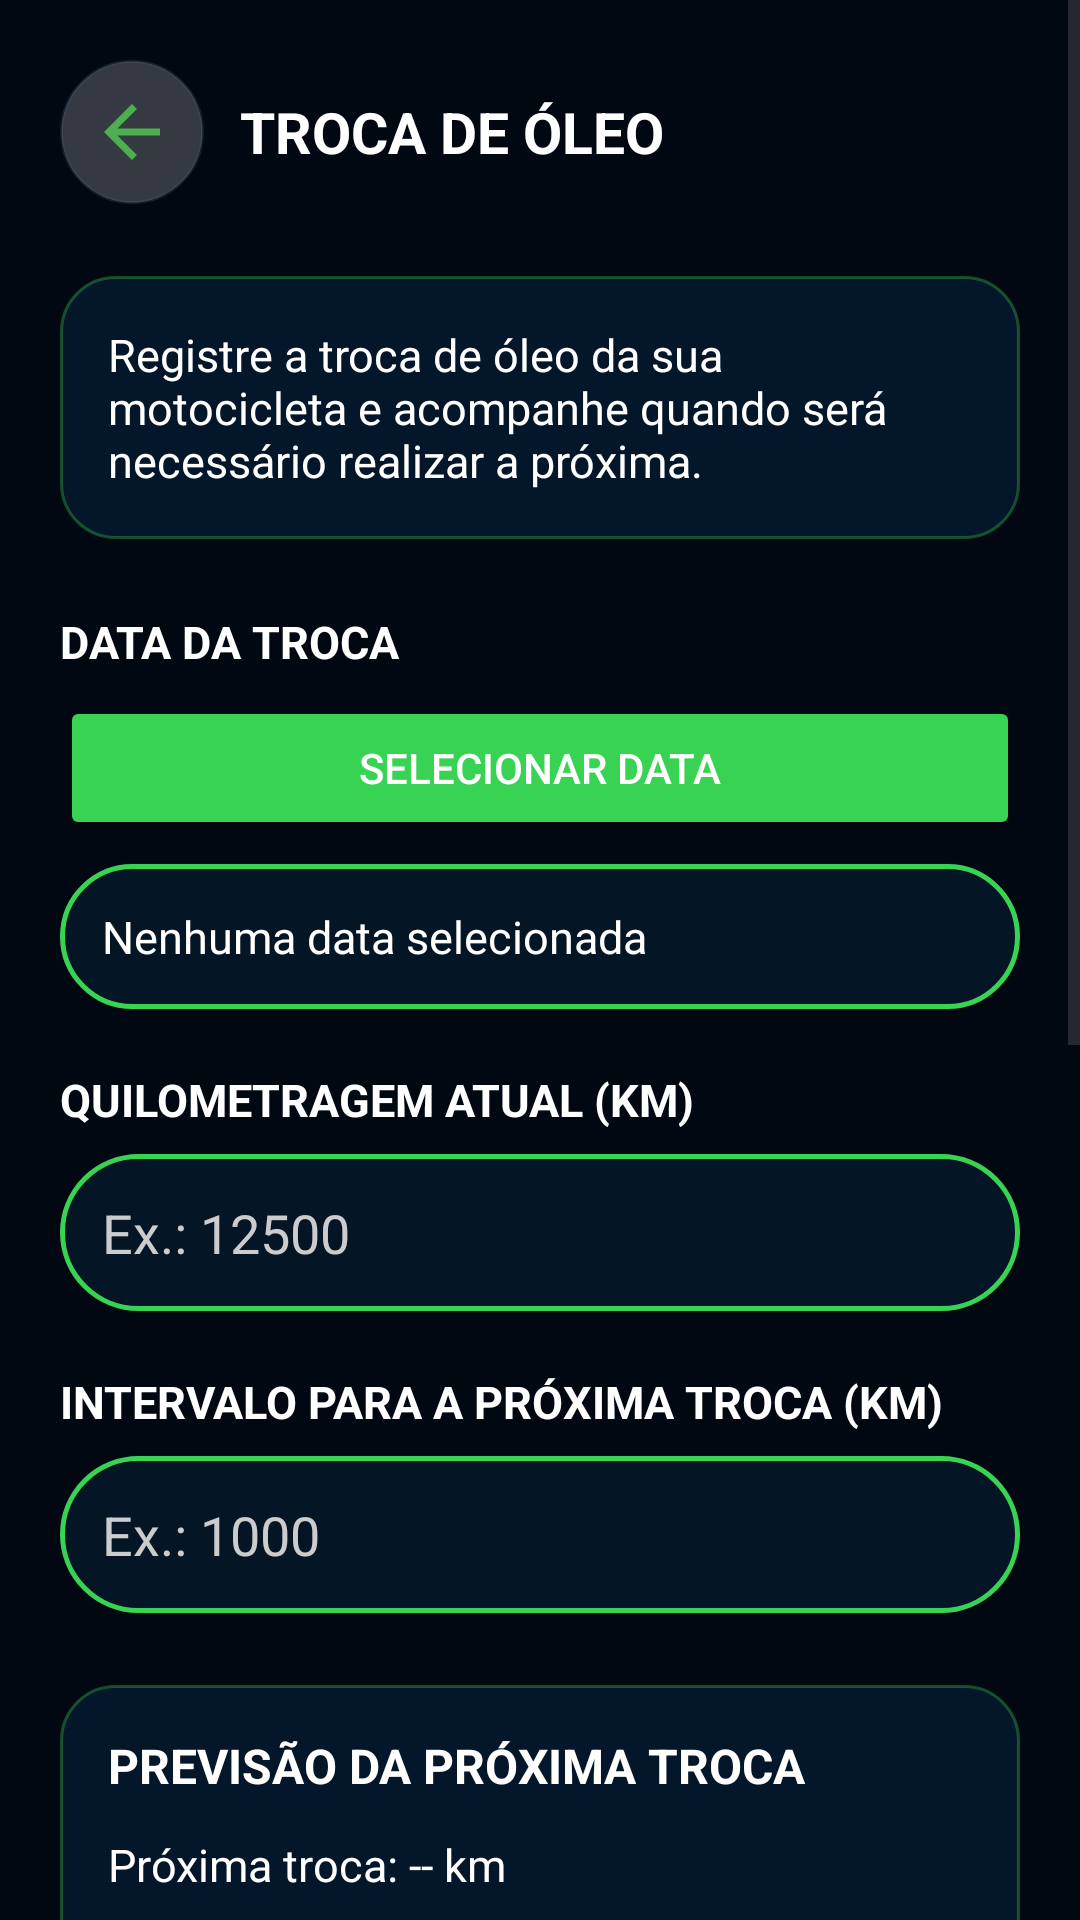

Screen size 1080px×1920px. Icon name, then its center in pixels as point (x, y):
Voltar: point (131, 132)
